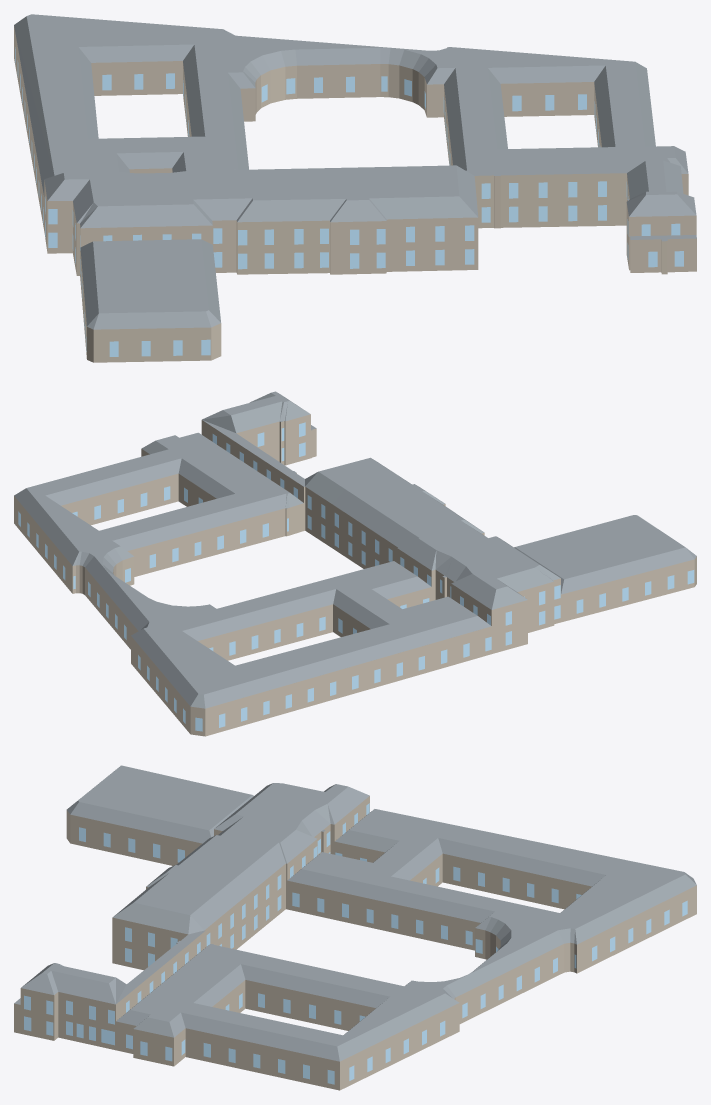
3 renders of one model, top to bottom at view 1: azimuth 30°, elevation 25°; view 2: azimuth 150°, elevation 25°; view 3: azimuth 270°, elevation 25°, orthographic. The views are drawn at different scales.
Parts seen in each view (by area): view 1: roof, stone, window; view 2: roof, stone, window; view 3: roof, stone, window.
Part boxes in pixels (box(x1,y1,x2,y2)): roof: box(14, 14, 696, 329); stone: box(14, 26, 696, 362); window: box(15, 47, 683, 356); roof: box(14, 391, 696, 708); stone: box(14, 414, 696, 736); window: box(18, 422, 694, 731); roof: box(14, 765, 696, 1061); stone: box(14, 796, 696, 1090); window: box(24, 803, 687, 1084).
Bounding box in the file's own units: 130 × 12 × 129.
